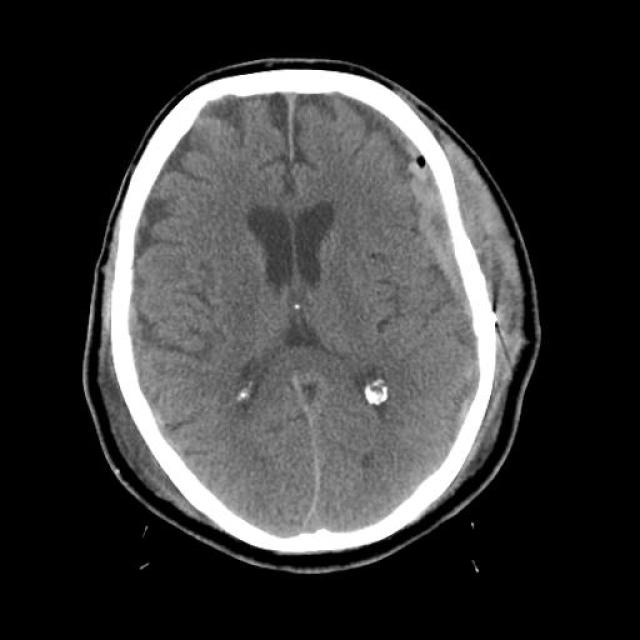Subdural: (353, 94, 548, 367)
